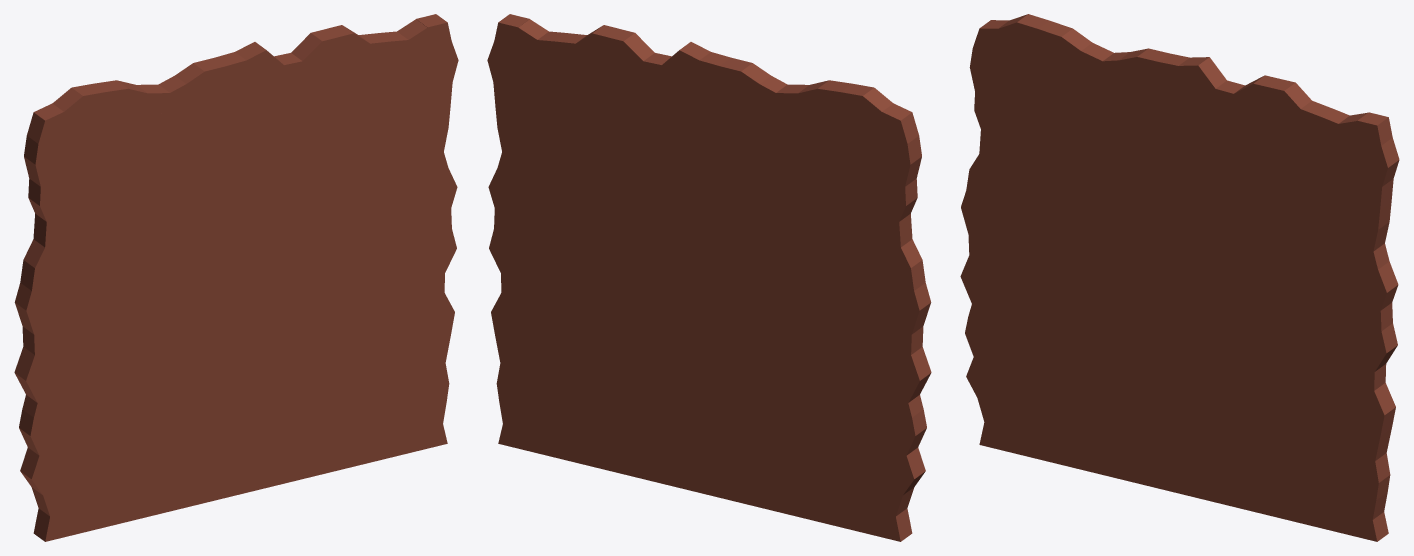
The model's file is Tile11.glb.
3 views of the same model, side by side, from view 1: azimuth 30°, elevation 25°; view 2: azimuth 150°, elevation 25°; view 3: azimuth 330°, elevation 25° (orthographic).
Parts seen in each view (by area): view 1: 11; view 2: 11; view 3: 11.
Part boxes in pixels (x1,y1,x2,y2): 11: (14, 14, 458, 541); 11: (487, 14, 931, 541); 11: (960, 14, 1399, 541).
Bounding box in the file's own units: 2.15 × 2.08 × 0.1.
Materials: 1 (1 with a texture image).
